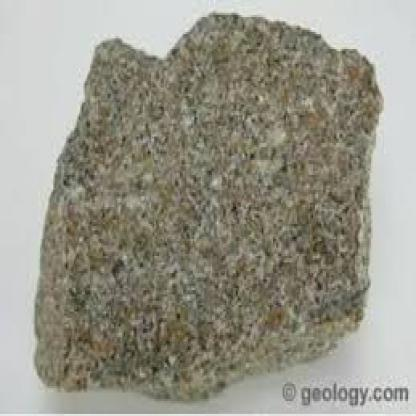Metamorphic_Quartize: (26, 8, 380, 397)
